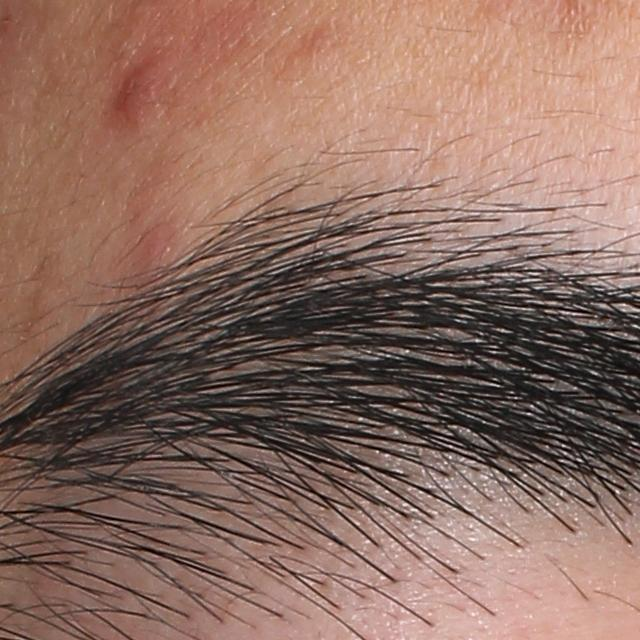papule: (107, 63, 160, 130)
